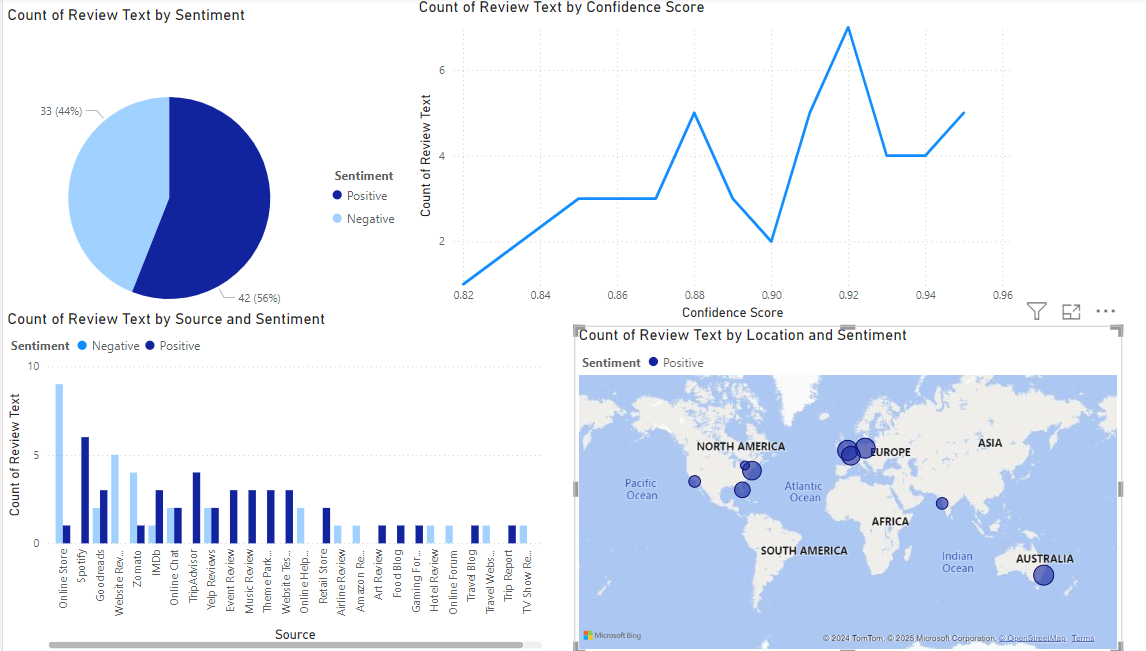

What the dashboard file says about the page in this screenshot:
{"tool":"powerbi","page":{"name":"Page 1","canvas":[1280,720],"ordinal":0},"visuals":[{"type":"pieChart","fields":{"Category":["sentiment-analysis. Sentiment"],"Y":["CountNonNull(sentiment-analysis.Review Text)"]},"box":[0,9.6,451.5,403.4],"z":0},{"type":"lineChart","fields":{"Y":["CountNonNull(sentiment-analysis.Review Text)"],"Category":["sentiment-analysis. Confidence Score"]},"box":[451.5,0,662.8,359.5],"z":1000},{"type":"clusteredColumnChart","fields":{"Category":["sentiment-analysis. Source"],"Series":["sentiment-analysis. Sentiment"],"Y":["CountNonNull(sentiment-analysis.Review Text)"]},"box":[0,343.1,596.9,377.4],"z":2000},{"type":"map","fields":{"Category":["sentiment-analysis. Location"],"Series":["sentiment-analysis. Sentiment"],"Size":["CountNonNull(sentiment-analysis.Review Text)"]},"box":[627.1,360.9,601,359.5],"z":3000}]}

Visuals, with their boxes in screenshot pixels (x1, y1, x2, y2), scaled from the page's 1280x720 canvas onto the 1146x651 screenshot:
pieChart - sentiment-analysis. Sentiment x CountNonNull(sentiment-analysis.Review Text): 0,9,404,373
lineChart - CountNonNull(sentiment-analysis.Review Text) x sentiment-analysis. Confidence Score: 404,0,998,325
clusteredColumnChart - sentiment-analysis. Source x sentiment-analysis. Sentiment: 0,310,534,650
map - sentiment-analysis. Location x sentiment-analysis. Sentiment: 561,326,1100,650
